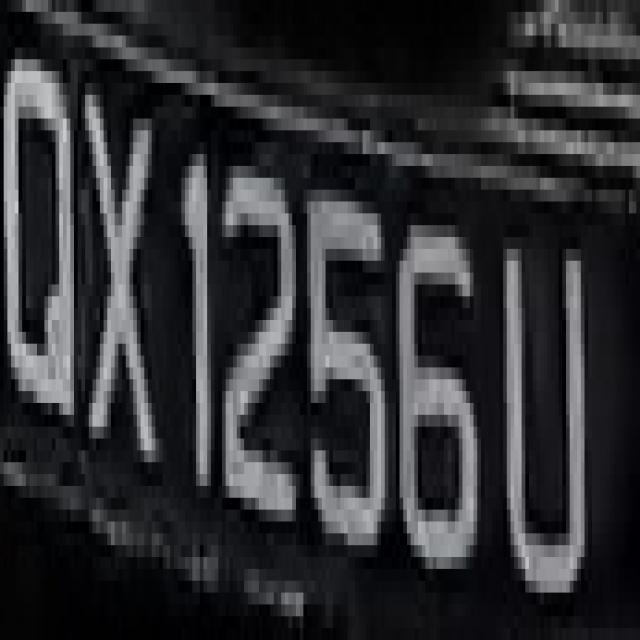1: (170, 83, 222, 533)
2: (214, 95, 300, 581)
5: (303, 119, 396, 557)
6: (385, 178, 492, 640)
Q: (8, 36, 82, 450)
U: (485, 202, 599, 628)
X: (78, 59, 159, 486)
